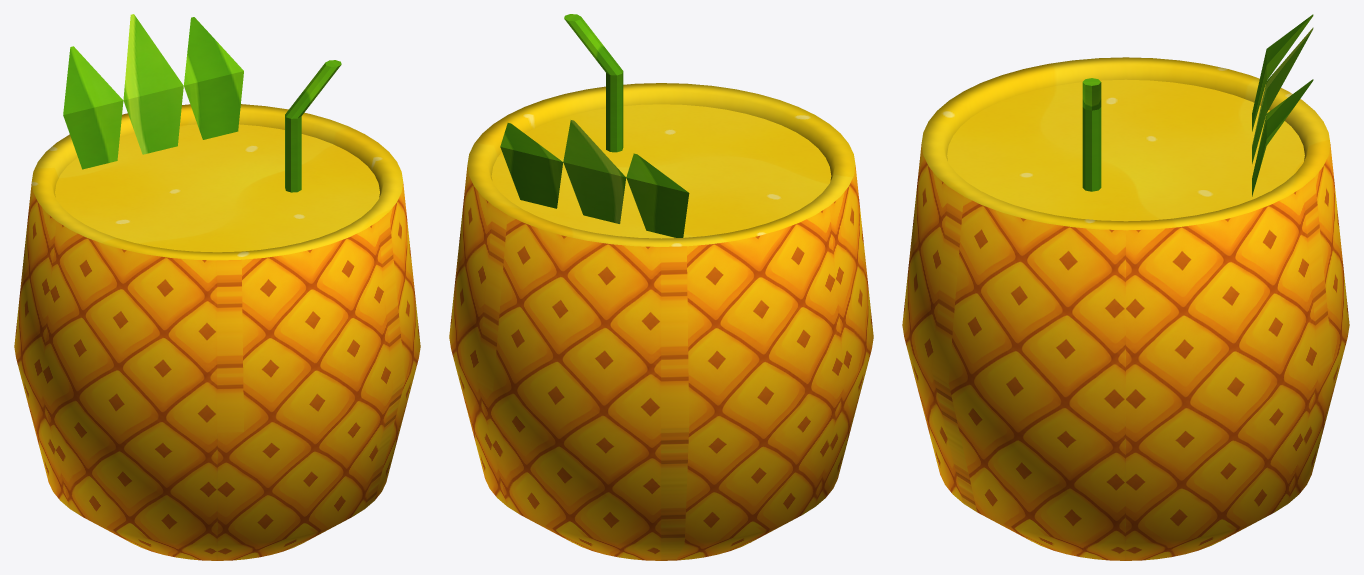
File: pineapple_drink-DVPT8ARt.glb
3 renders of one model, left to right at view 1: azimuth 30°, elevation 25°; view 2: azimuth 150°, elevation 25°; view 3: azimuth 270°, elevation 25°, orthographic. The views are drawn at different scales.
Visible parts, largest first — view 1: HI_pineapple_drink; view 2: HI_pineapple_drink; view 3: HI_pineapple_drink.
Boxes of the visible parts, x1,y1,x2,y2 form: HI_pineapple_drink: [14, 14, 420, 560]; HI_pineapple_drink: [449, 14, 873, 560]; HI_pineapple_drink: [902, 14, 1349, 560].
Bounding box in the file's own units: 1.05 × 1.25 × 1.05.
Materials: 1 (1 with a texture image).
